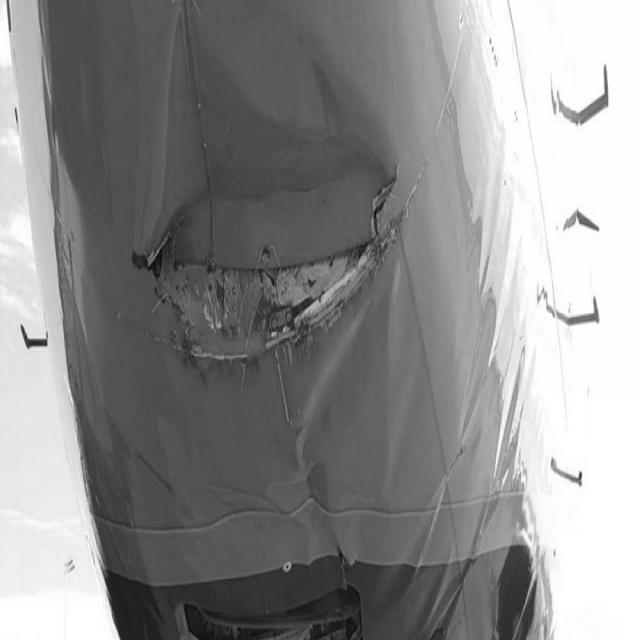crack: (136, 170, 412, 370)
